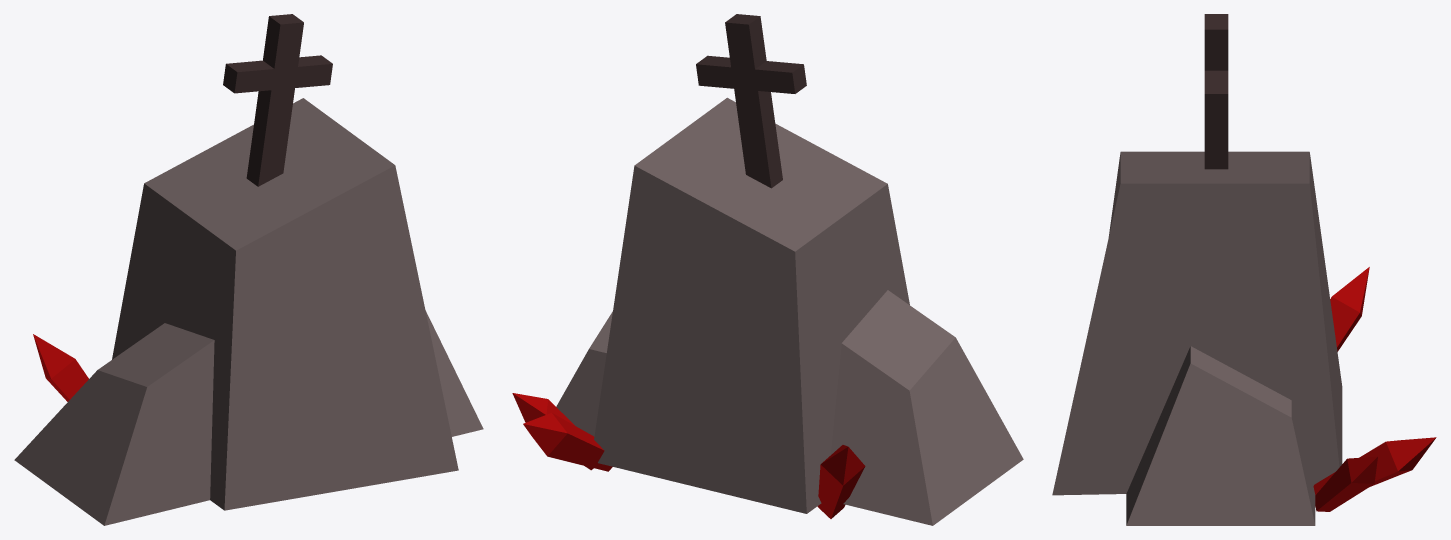
The model's file is Stone92.fbx.
The picture shows the model from 3 angles, left to right: view 1: azimuth 30°, elevation 25°; view 2: azimuth 150°, elevation 25°; view 3: azimuth 270°, elevation 25°; orthographic projection. The views are drawn at different scales.
Parts seen in each view (by area): view 1: StonesLowPoly3:pCube7; view 2: StonesLowPoly3:pCube7; view 3: StonesLowPoly3:pCube7.
Part boxes in pixels (x1,y1,x2,y2): StonesLowPoly3:pCube7: (14,14,483,525); StonesLowPoly3:pCube7: (512,14,1023,525); StonesLowPoly3:pCube7: (1052,14,1436,525).
Bounding box in the file's own units: 947 × 1026 × 799.
